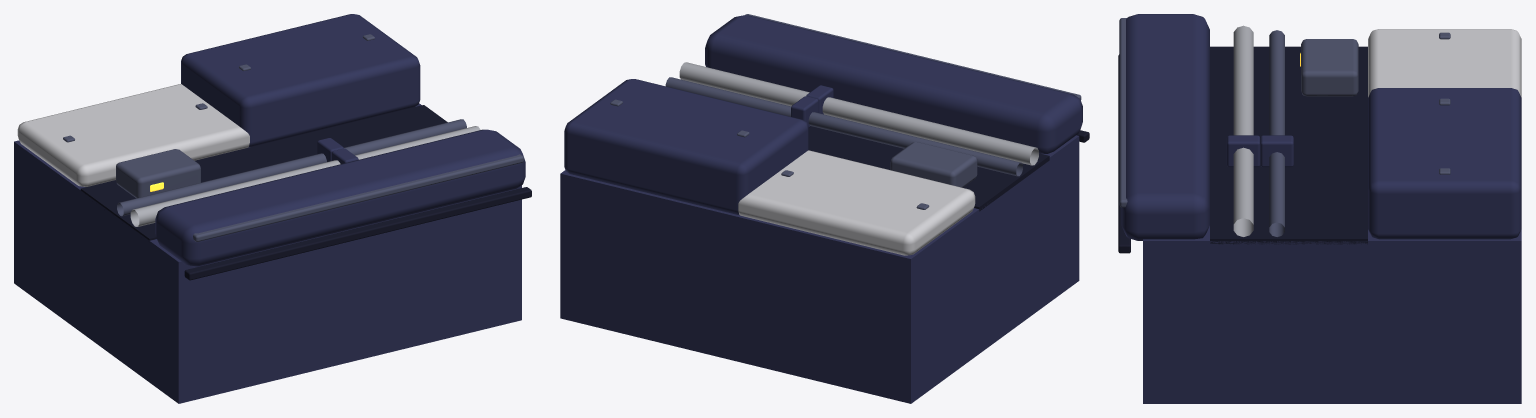
Rendered from int.rimliner.v1.w0.95.glb.
3 views of the same model, side by side, from view 1: azimuth 30°, elevation 25°; view 2: azimuth 150°, elevation 25°; view 3: azimuth 270°, elevation 25° (orthographic). The views are drawn at different scales.
Parts seen in each view (by area): view 1: int.rimliner.v1.w0.95; view 2: int.rimliner.v1.w0.95; view 3: int.rimliner.v1.w0.95.
Part boxes in pixels (left/top/right/bottom): int.rimliner.v1.w0.95: left=14, top=14, right=531, bottom=403; int.rimliner.v1.w0.95: left=560, top=14, right=1089, bottom=403; int.rimliner.v1.w0.95: left=1118, top=14, right=1521, bottom=403.
Bounding box in the file's own units: 0.95 × 0.511 × 0.841.
